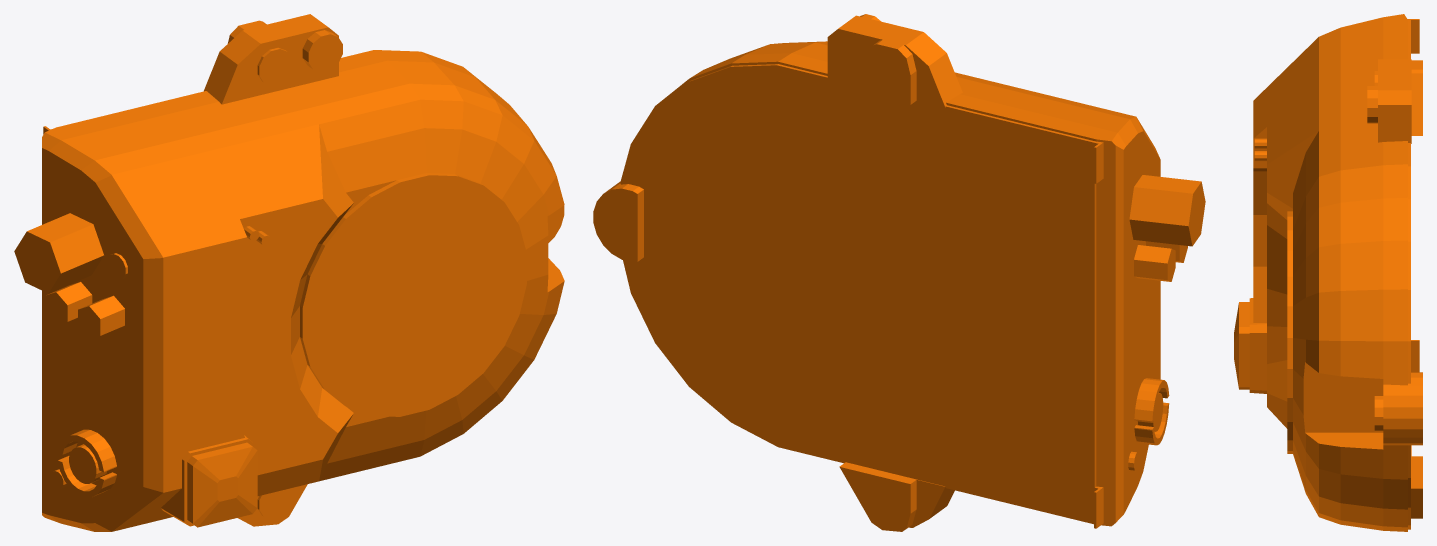
3 views of the same model, side by side, from view 1: azimuth 30°, elevation 25°; view 2: azimuth 150°, elevation 25°; view 3: azimuth 270°, elevation 25° (orthographic). The views are drawn at different scales.
Parts seen in each view (by area): view 1: <STL_BINARY>; view 2: <STL_BINARY>; view 3: <STL_BINARY>.
Boxes of the visible parts, x1,y1,x2,y2 form: <STL_BINARY>: (14, 14, 564, 531); <STL_BINARY>: (593, 14, 1205, 531); <STL_BINARY>: (1234, 14, 1422, 531).
Size of the model in its own units: 1.96 by 1.61 by 0.6124.
